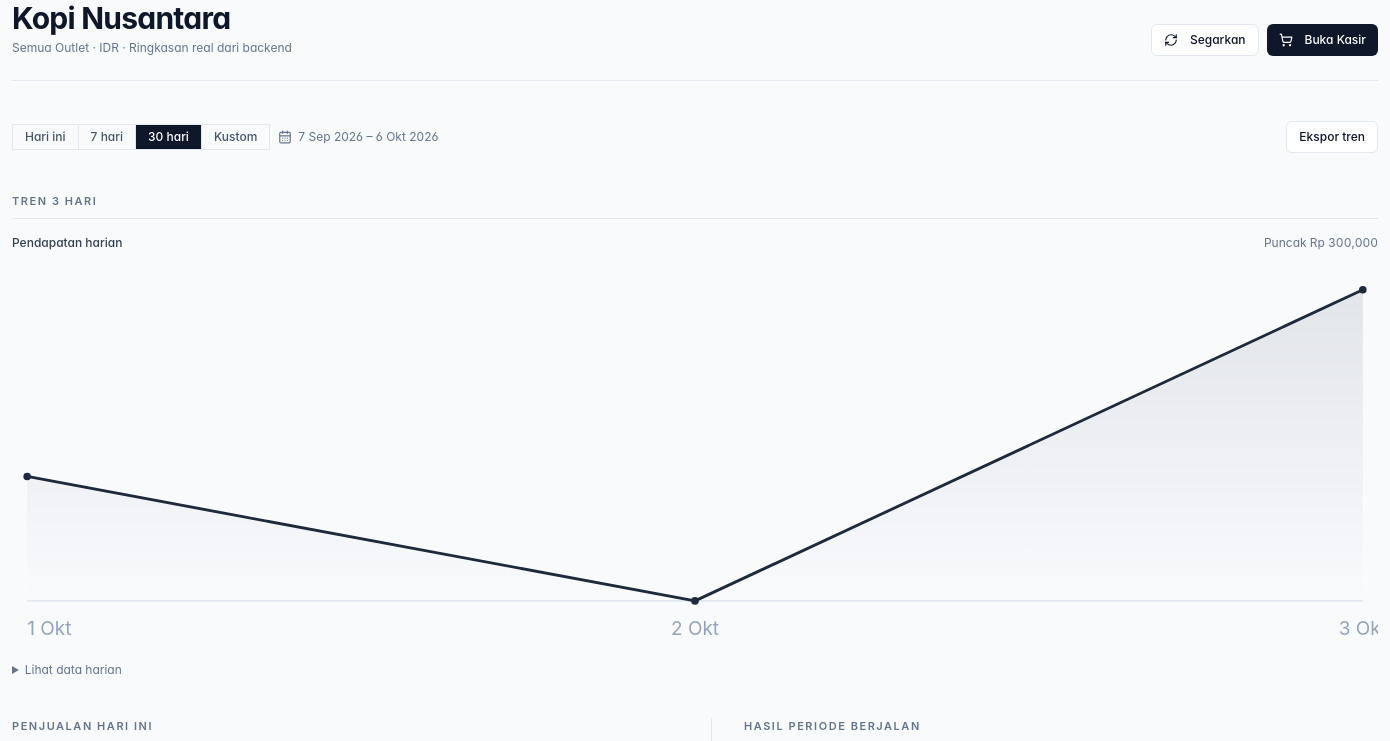
Test: Phase 7 — Dashboard › renders the daily trend from the series endpoint and exposes a data table
The image size is (1390, 741).
Expected: the heading "Tren 3 hari" is shown, [12,193,1378,218]
Expected: the text "Pendapatan harian" is shown, [12,234,122,250]
What coordinates should you click on to do the following:
click the heading "Lihat data harian"
I would click on:
 (73, 669)
Its box is [25,662,122,677].
(page scrolled)
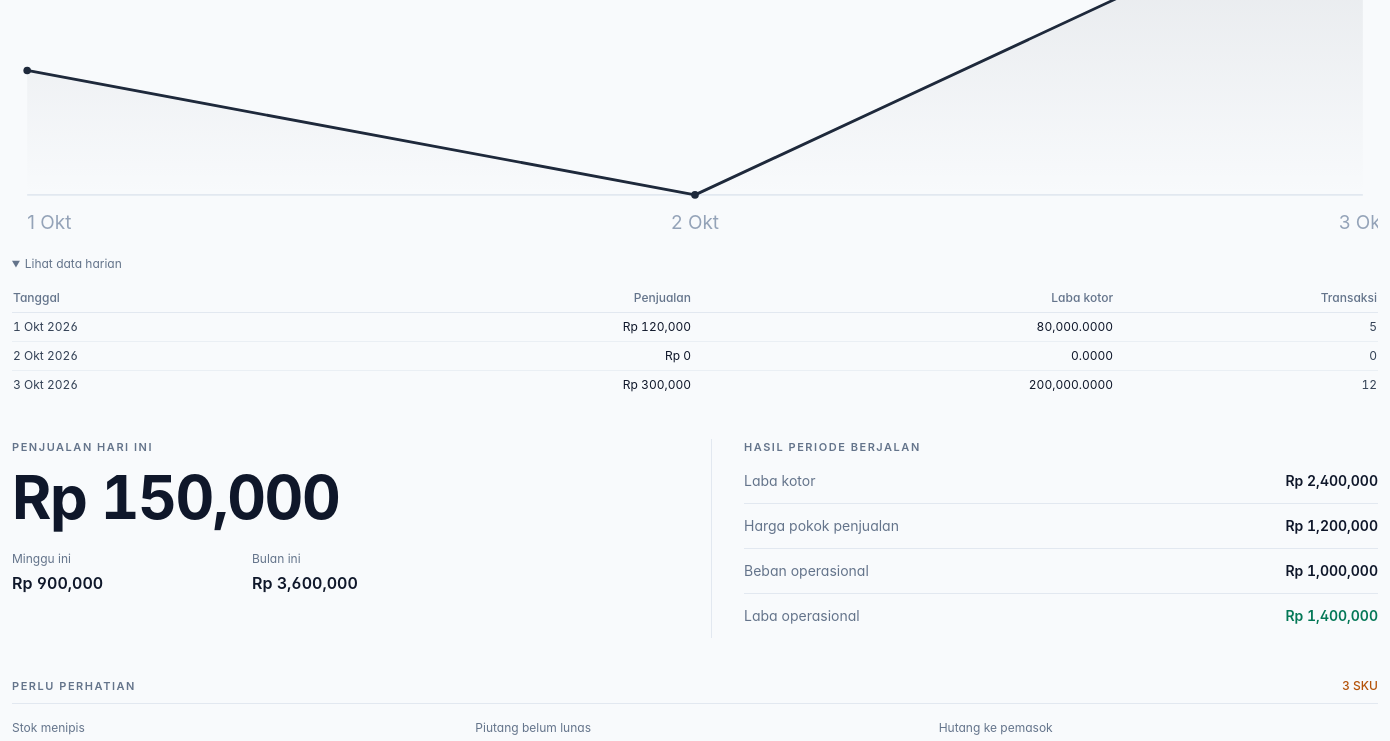
Now the column heading "2 Okt 2026" is shown, box [12,341,351,370]
Now the column heading "3 Okt 2026" is shown, box [12,370,351,399]
